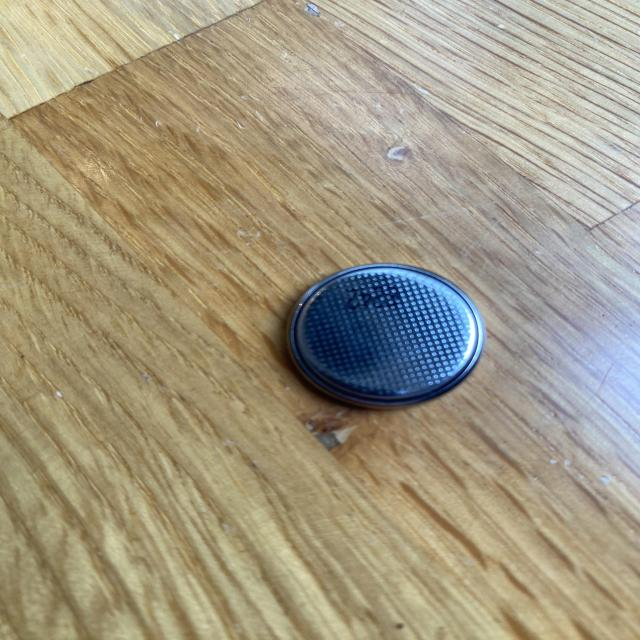COIN: (280, 259, 489, 415)
